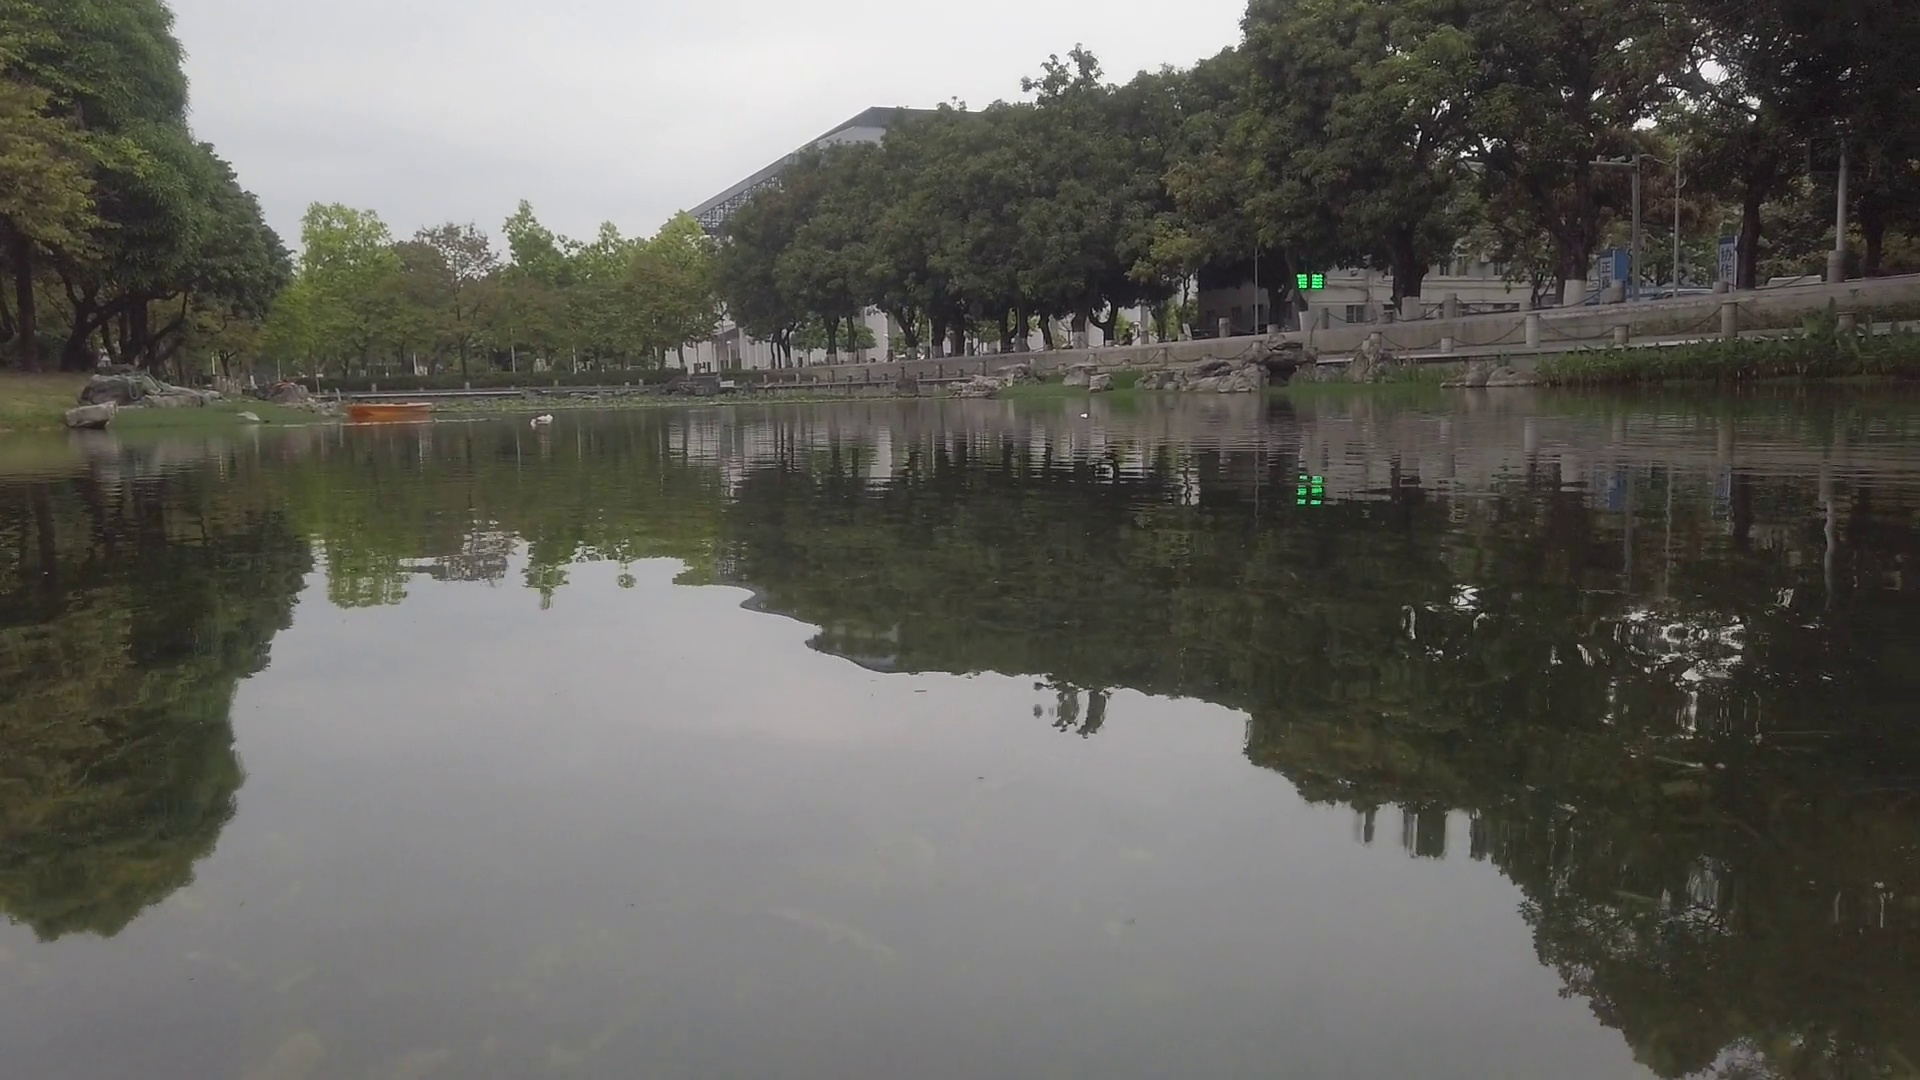paper: (1079, 411, 1091, 421)
plastic: (533, 413, 555, 425)
